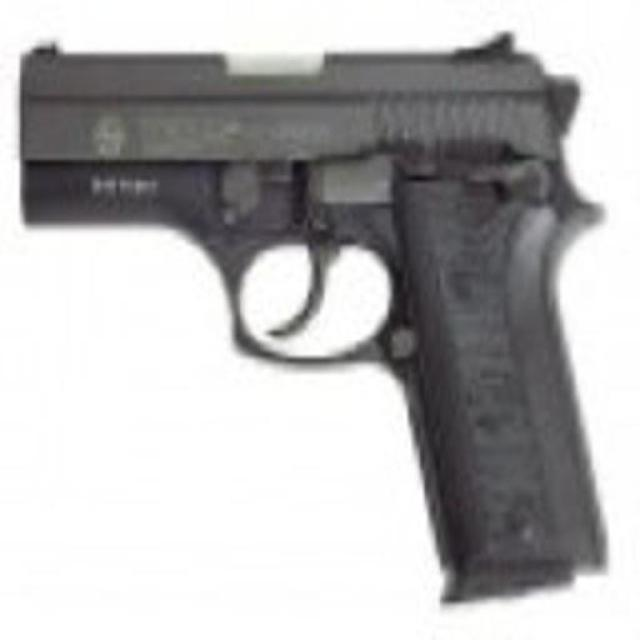pistol: (20, 31, 607, 596)
